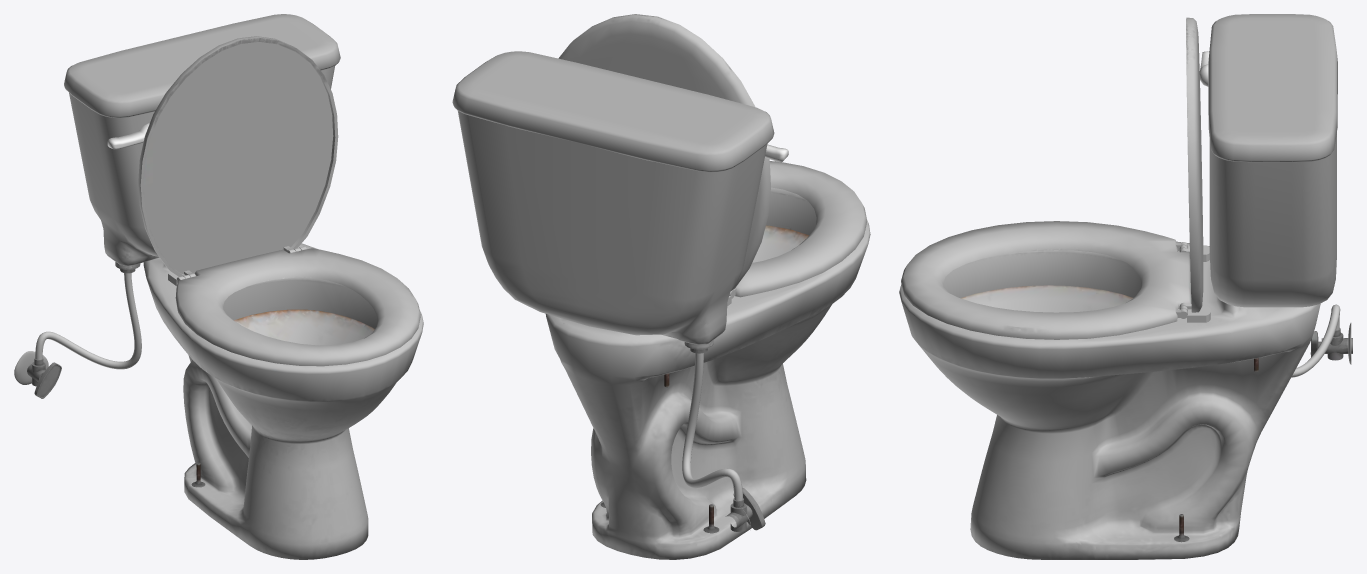
3 renders of one model, left to right at view 1: azimuth 30°, elevation 25°; view 2: azimuth 150°, elevation 25°; view 3: azimuth 270°, elevation 25°, orthographic. The views are drawn at different scales.
Parts seen in each view (by area): view 1: Toilet_Toilet_0; view 2: Toilet_Toilet_0; view 3: Toilet_Toilet_0.
Boxes of the visible parts, x1,y1,x2,y2 form: Toilet_Toilet_0: (14,14,423,559); Toilet_Toilet_0: (452,14,870,559); Toilet_Toilet_0: (899,14,1352,559).
Size of the model in its own units: 0.4784 by 0.7435 by 0.607.
1 material, 1 textured.
